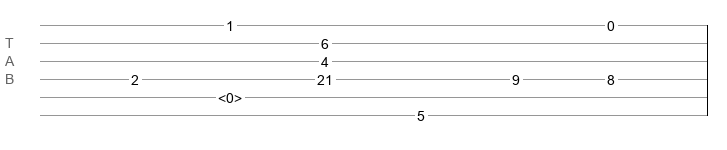0: (607, 18, 615, 28)
1: (226, 18, 234, 28)
2: (131, 72, 139, 82)
21: (317, 72, 333, 82)
4: (321, 54, 329, 64)
5: (417, 108, 425, 118)
6: (321, 36, 329, 46)
8: (607, 72, 615, 82)
9: (512, 72, 520, 82)
harmonic: (218, 90, 242, 100)
